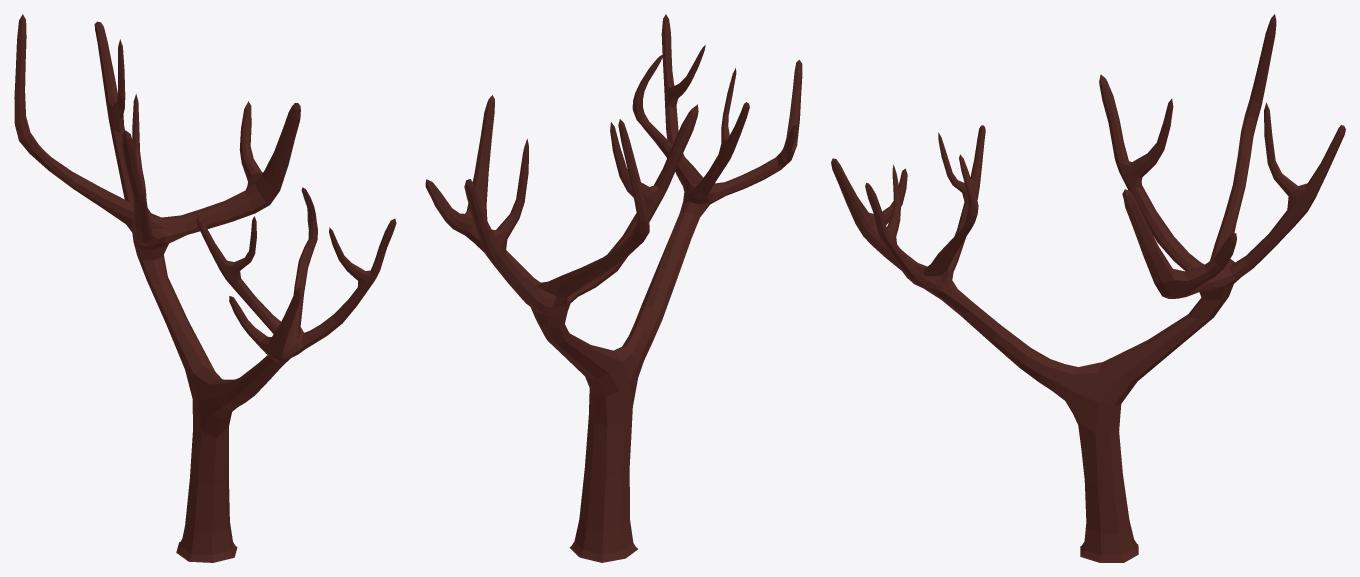
The model's file is prop_CommonTree_Dead_1.glb.
3 views of the same model, side by side, from view 1: azimuth 30°, elevation 25°; view 2: azimuth 150°, elevation 25°; view 3: azimuth 270°, elevation 25° (orthographic). The views are drawn at different scales.
Visible parts, largest first — view 1: CommonTree_Dead_1; view 2: CommonTree_Dead_1; view 3: CommonTree_Dead_1.
Part boxes in pixels (x1,y1,x2,y2): CommonTree_Dead_1: (14, 14, 396, 562); CommonTree_Dead_1: (425, 14, 802, 562); CommonTree_Dead_1: (831, 14, 1345, 562).
Bounding box in the file's own units: 1.04 × 2.22 × 2.12.
